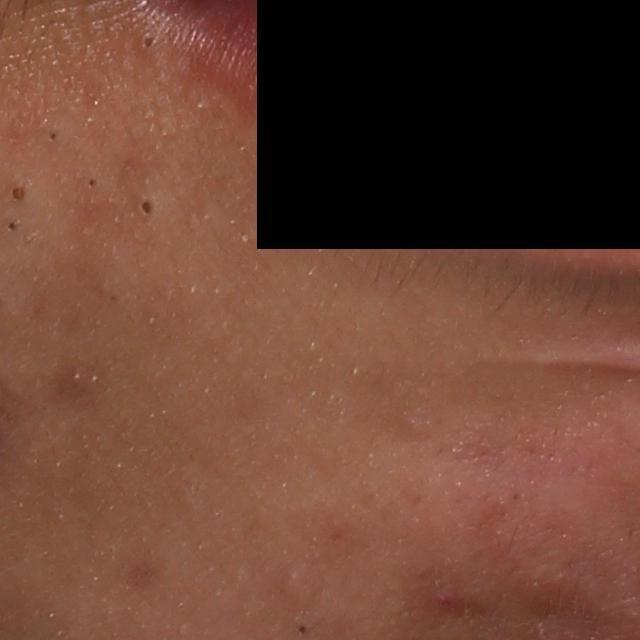comedo: (133, 27, 165, 56), (135, 192, 163, 222), (272, 568, 305, 592), (5, 182, 29, 206), (2, 214, 22, 231), (46, 128, 63, 140)
